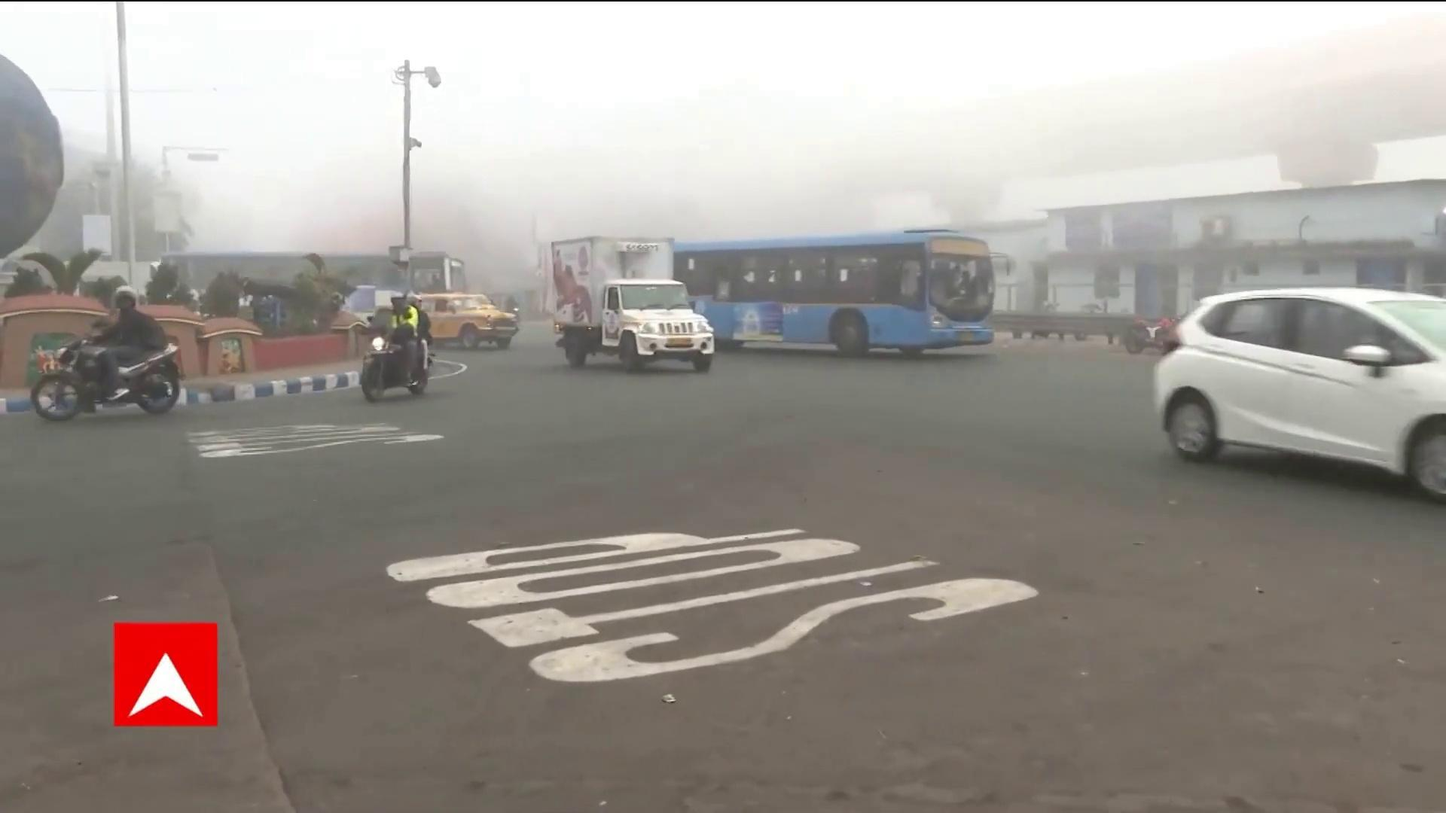Bike: (29, 285, 187, 422), (358, 290, 437, 404)
Bus: (668, 224, 1001, 356)
Car: (1158, 281, 1446, 498)
Truck: (549, 233, 714, 376)
